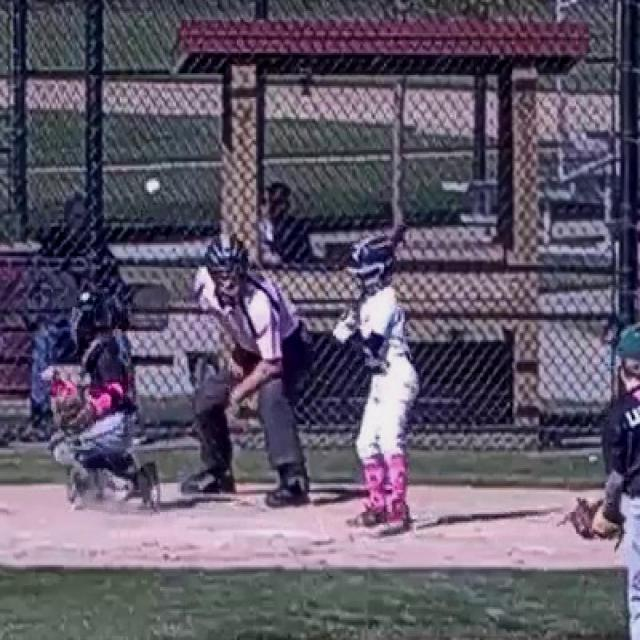baseball: (146, 180, 160, 193)
